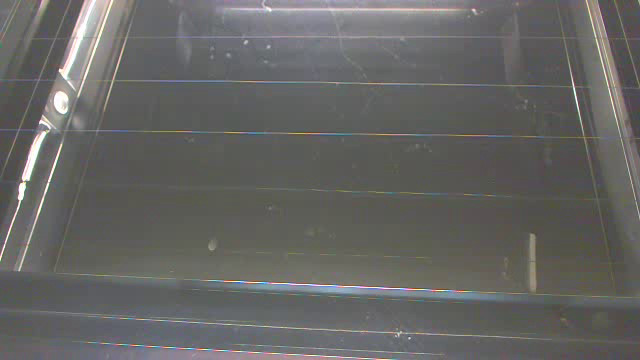alpha: (522, 229, 554, 295), (204, 233, 228, 258)
